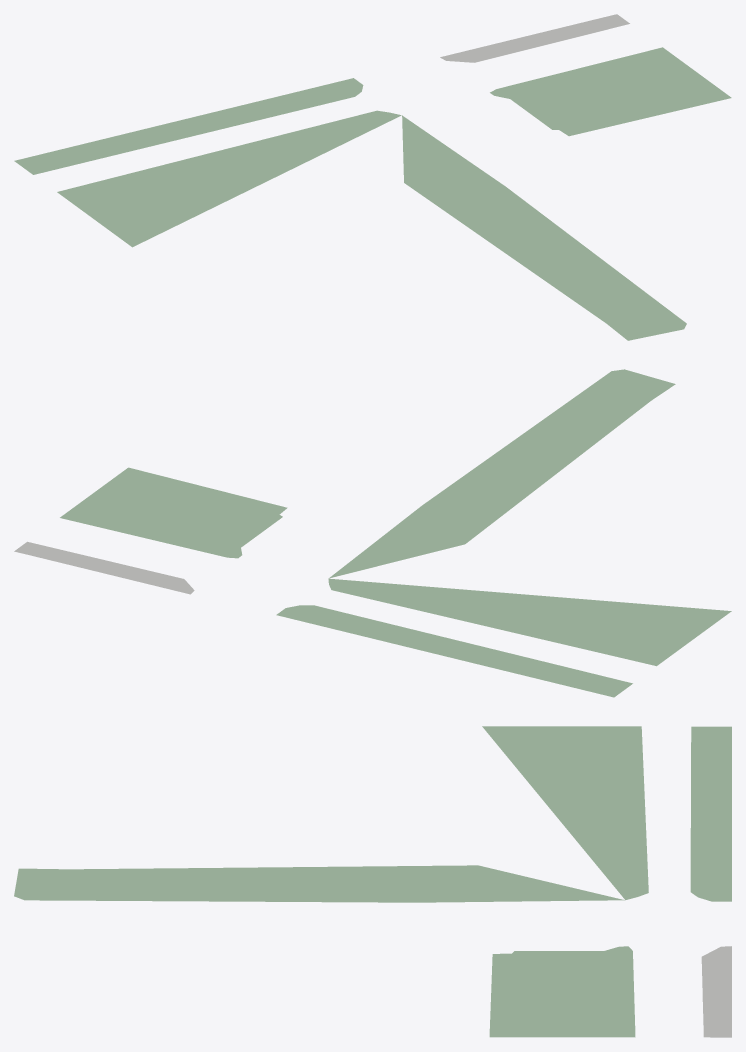
File: 121_126_mid.glb
The picture shows the model from 3 angles, top to bottom: view 1: azimuth 30°, elevation 25°; view 2: azimuth 150°, elevation 25°; view 3: azimuth 270°, elevation 25°; orthographic projection. The views are drawn at different scales.
Size of the model in its own units: 500 by 0.4214 by 489.
